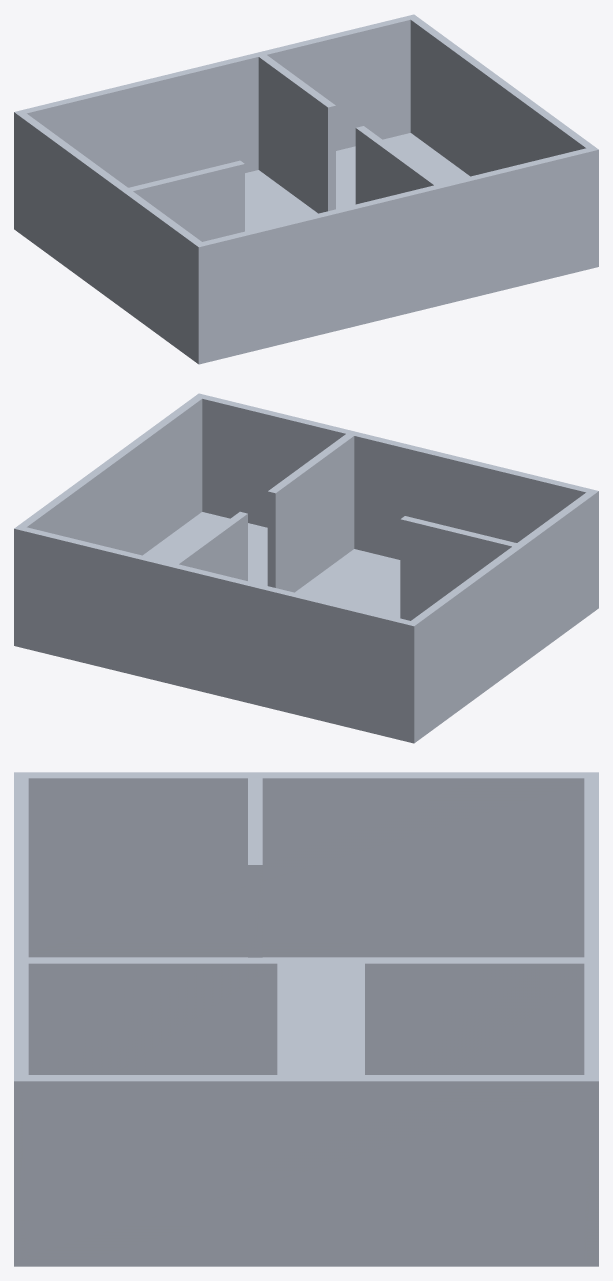
File: collider.glb
3 views of the same model, one above another, from view 1: azimuth 30°, elevation 25°; view 2: azimuth 150°, elevation 25°; view 3: azimuth 270°, elevation 25° (orthographic). The views are drawn at different scales.
Visible parts, largest first — view 1: wall_north, wall_south, wall_west, wall_east, partition_s, floor, nook_divider, partition_n; view 2: wall_south, wall_north, wall_west, wall_east, partition_n, floor, nook_divider, partition_s; view 3: wall_east, wall_west, partition_n, partition_s, floor, wall_south, wall_north, nook_divider.
Boxes of the visible parts, x1,y1,x2,y2 form: wall_north: [194, 147, 598, 359]; wall_south: [14, 14, 417, 227]; wall_west: [14, 112, 206, 360]; wall_east: [408, 14, 598, 264]; partition_s: [254, 52, 335, 213]; floor: [14, 133, 598, 364]; nook_divider: [120, 160, 244, 305]; partition_n: [355, 126, 446, 300]; wall_south: [14, 525, 418, 738]; wall_north: [195, 393, 598, 606]; wall_west: [406, 491, 597, 738]; wall_east: [14, 394, 205, 643]; partition_n: [267, 431, 357, 592]; floor: [14, 512, 598, 743]; nook_divider: [400, 516, 521, 661]; partition_s: [166, 511, 247, 680]; wall_east: [14, 1075, 598, 1260]; wall_west: [14, 772, 598, 957]; partition_n: [14, 957, 277, 1074]; partition_s: [365, 957, 598, 1074]; floor: [14, 957, 598, 1266]; wall_south: [584, 772, 598, 1260]; wall_north: [14, 772, 28, 1260]; nook_divider: [248, 772, 262, 957].
Size of the model in its own units: 10 by 2.8 by 8.
